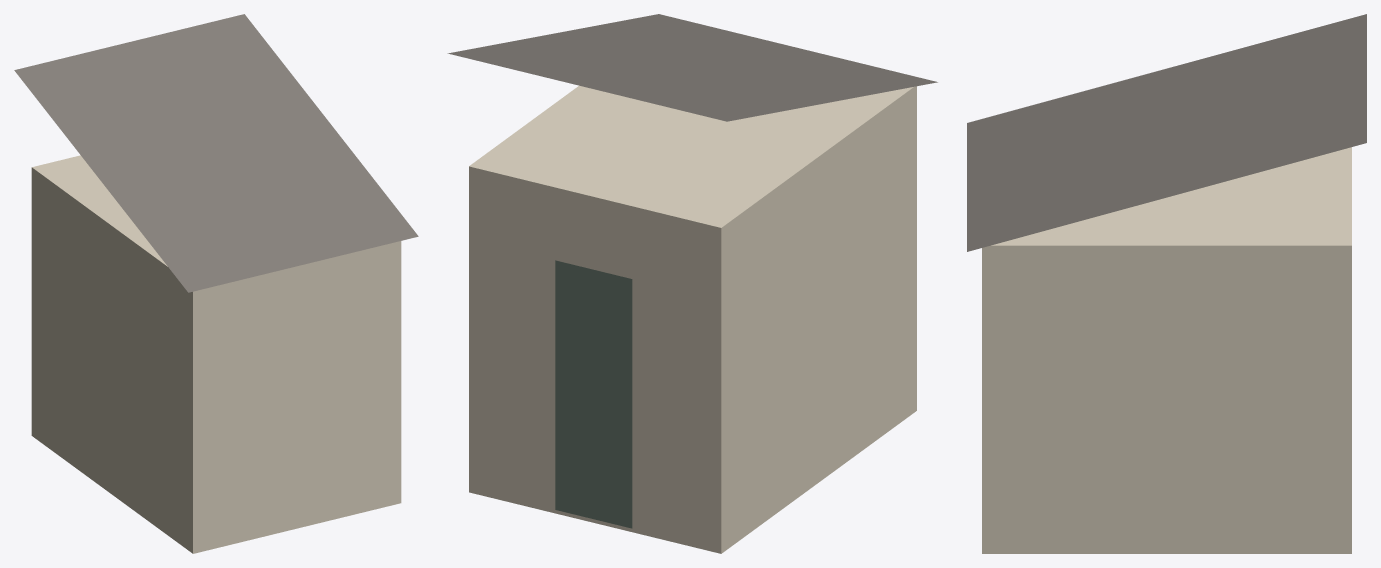
Rendered from recon_1835_south_a4_042__recommended_1835.glb.
3 views of the same model, side by side, from view 1: azimuth 30°, elevation 25°; view 2: azimuth 150°, elevation 25°; view 3: azimuth 270°, elevation 25° (orthographic). The views are drawn at different scales.
Visible parts, largest first — view 1: recon_1835_south_a4_042__recommended_1835; view 2: recon_1835_south_a4_042__recommended_1835; view 3: recon_1835_south_a4_042__recommended_1835.
Boxes of the visible parts, x1,y1,x2,y2 form: recon_1835_south_a4_042__recommended_1835: (14, 14, 418, 553); recon_1835_south_a4_042__recommended_1835: (447, 14, 937, 553); recon_1835_south_a4_042__recommended_1835: (967, 14, 1366, 553).
Size of the model in its own units: 2.47 by 3.72 by 3.23.
